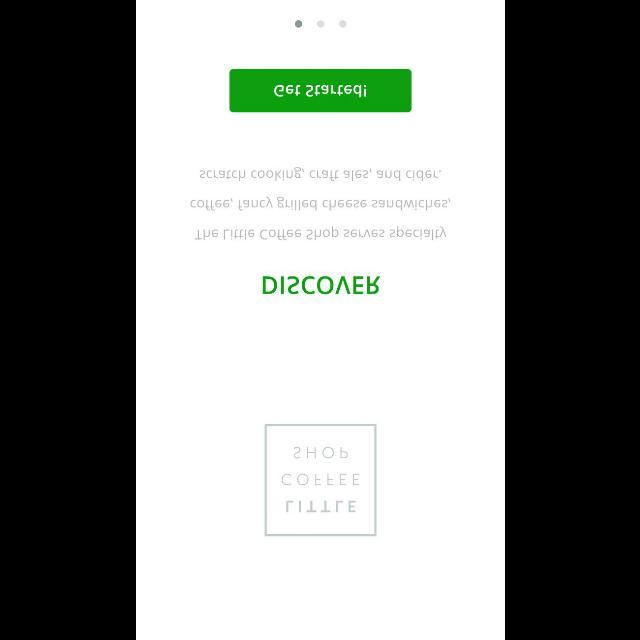image: (264, 424, 376, 536)
pageindicator: (294, 20, 346, 28)
text: (190, 166, 450, 240), (262, 276, 380, 294)
textbutton: (229, 68, 411, 112)
